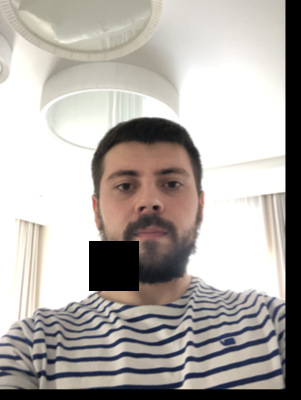without_mask: (102, 160, 196, 286)
